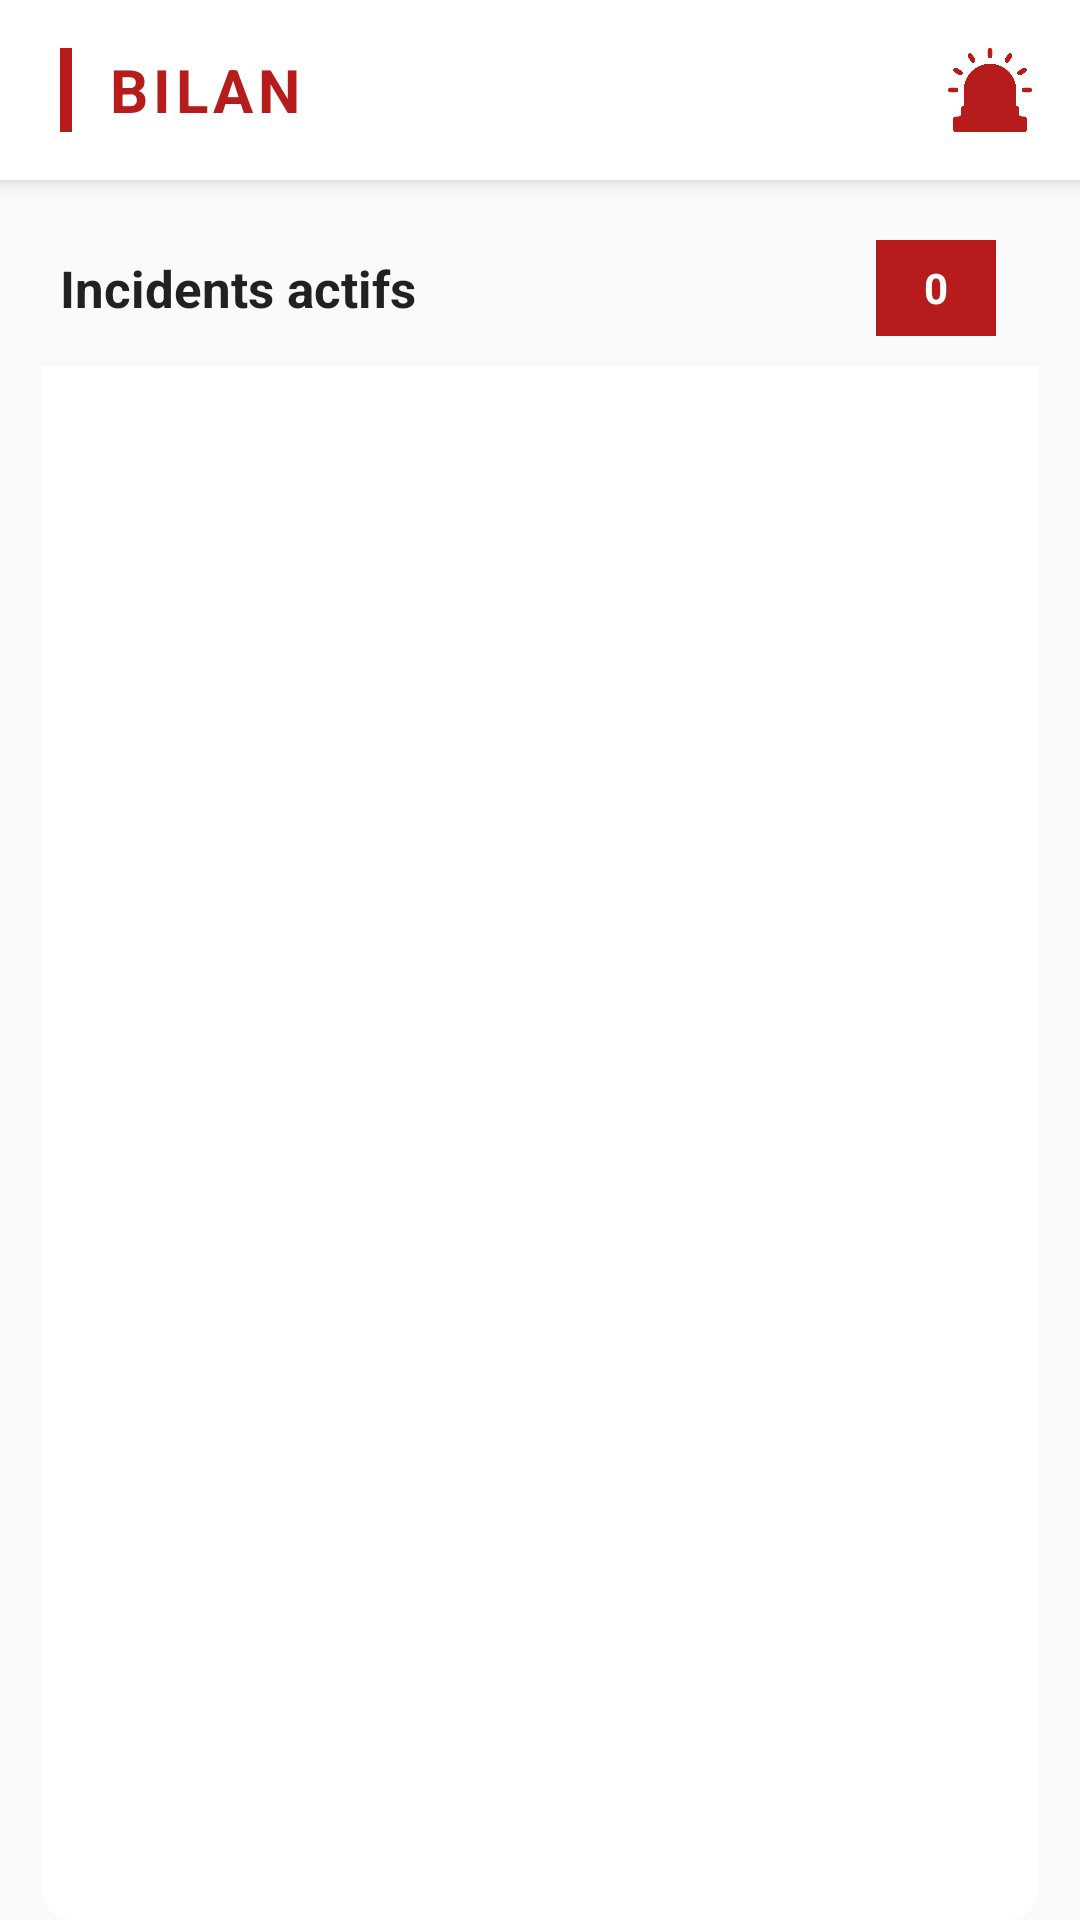

Icon click points for this 1080*1920 phone screenshot, format (x=x, y=y):
emergency: (x=990, y=90)
